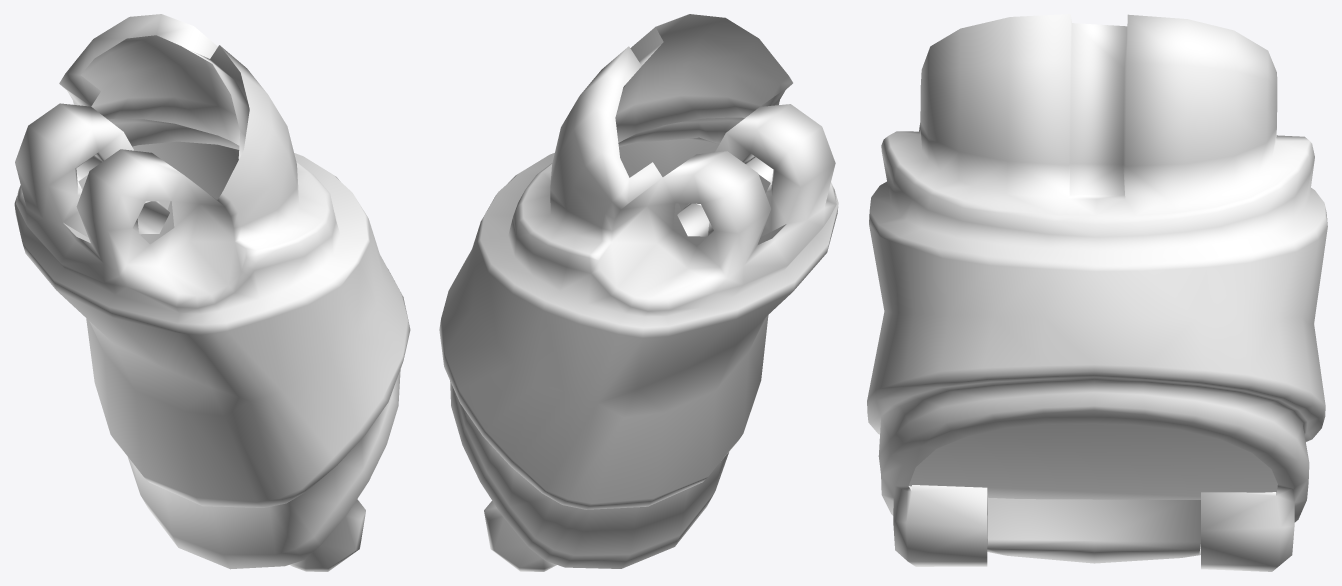
File: RThumb1.dae
The picture shows the model from 3 angles, left to right: view 1: azimuth 30°, elevation 25°; view 2: azimuth 150°, elevation 25°; view 3: azimuth 270°, elevation 25°; orthographic projection. The views are drawn at different scales.
Parts seen in each view (by area): view 1: RThumb1; view 2: RThumb1; view 3: RThumb1.
Boxes of the visible parts, bbox=[...] form: RThumb1: bbox=[14, 14, 410, 571]; RThumb1: bbox=[439, 14, 838, 571]; RThumb1: bbox=[867, 14, 1327, 571].
Bounding box in the file's own units: 0.136 × 0.1591 × 0.2132.
Materials: 1 (1 with a texture image).
